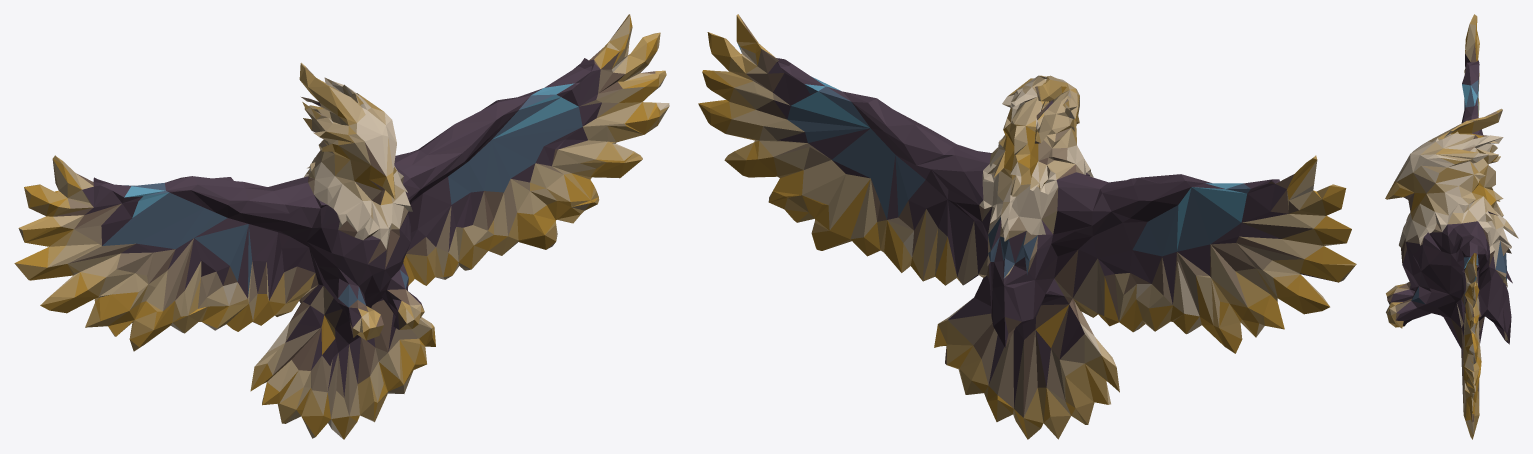
File: storm-roc.glb
3 views of the same model, side by side, from view 1: azimuth 30°, elevation 25°; view 2: azimuth 150°, elevation 25°; view 3: azimuth 270°, elevation 25° (orthographic). The views are drawn at different scales.
Parts seen in each view (by area): view 1: storm-roc; view 2: storm-roc; view 3: storm-roc.
Part boxes in pixels (x1,y1,x2,y2): storm-roc: (14,14,669,439); storm-roc: (698,14,1356,439); storm-roc: (1385,14,1518,439).
Size of the model in its own units: 11.04 by 5.97 by 2.29.
